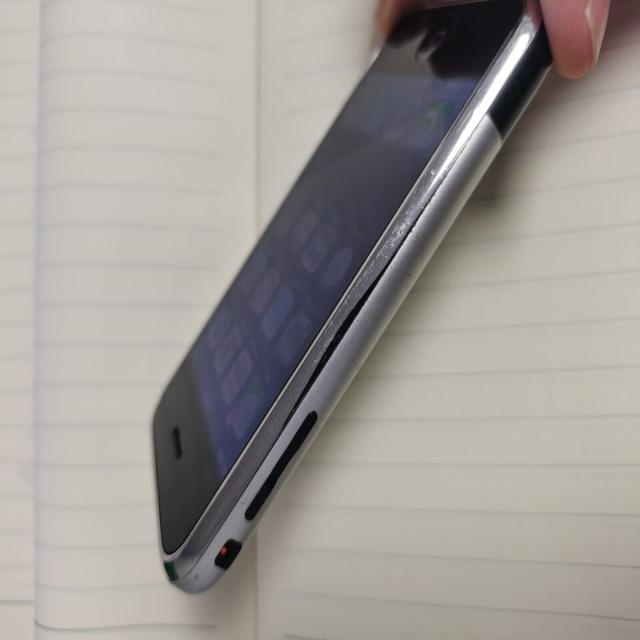Dents: (420, 165, 449, 206), (392, 213, 414, 248), (351, 278, 370, 312), (378, 243, 391, 276)
